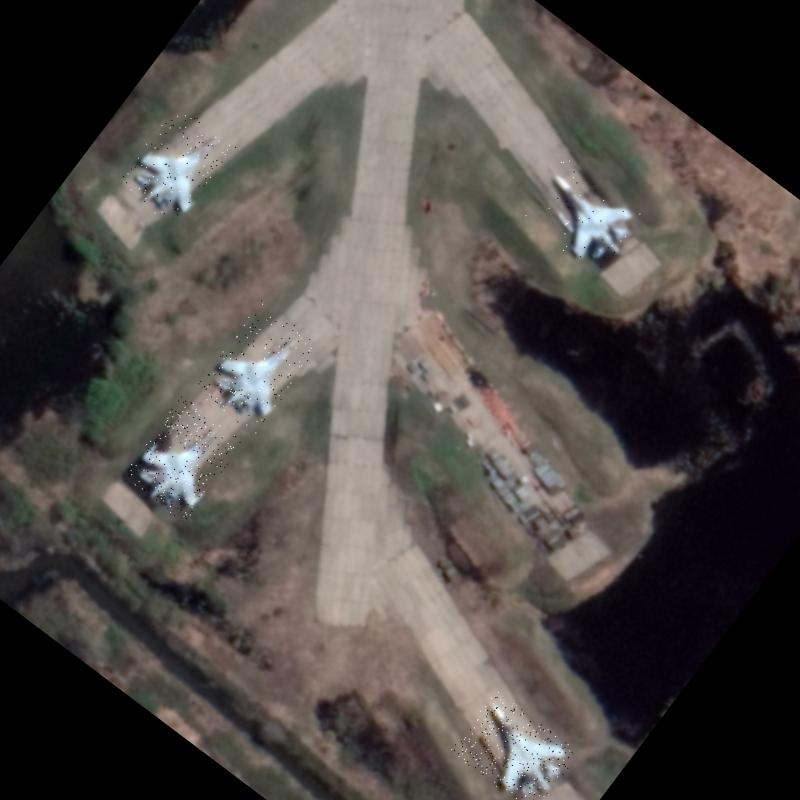A1: (193, 298, 323, 436), (518, 156, 649, 280), (120, 395, 244, 524), (115, 102, 237, 230), (449, 690, 579, 800)
